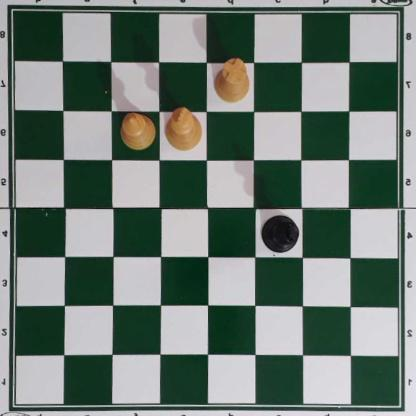black-king: (260, 215, 301, 254)
white-bishop: (121, 111, 156, 150)
white-king: (165, 105, 204, 151)
white-rook: (213, 59, 250, 102)
